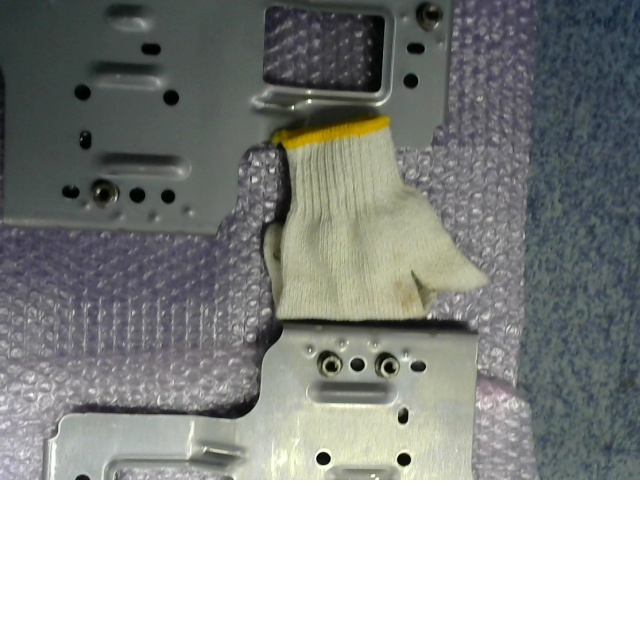dog: (90, 178, 119, 207), (316, 349, 344, 378), (416, 2, 444, 31), (374, 352, 399, 378)
